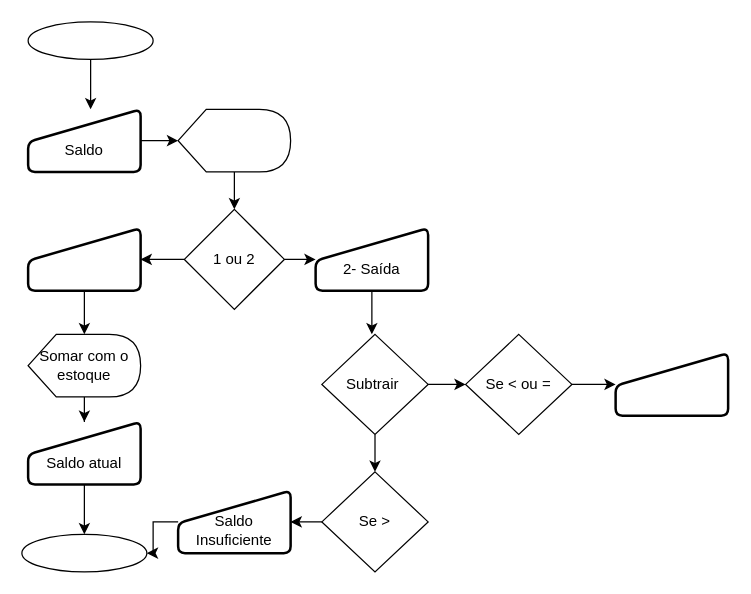
The diagram is 751 pixels wide and 594 high, and some of its shapes have lost their labels. Here are the shapes that lost their labels. From the top down, the box of each, then its label:
(27, 21, 153, 59): Inicio
(177, 108, 291, 172): Saldo Inicial
(26, 226, 141, 291): 1 - Entrada
(614, 351, 729, 416): Mostrar saldo
(21, 533, 147, 572): Fim
